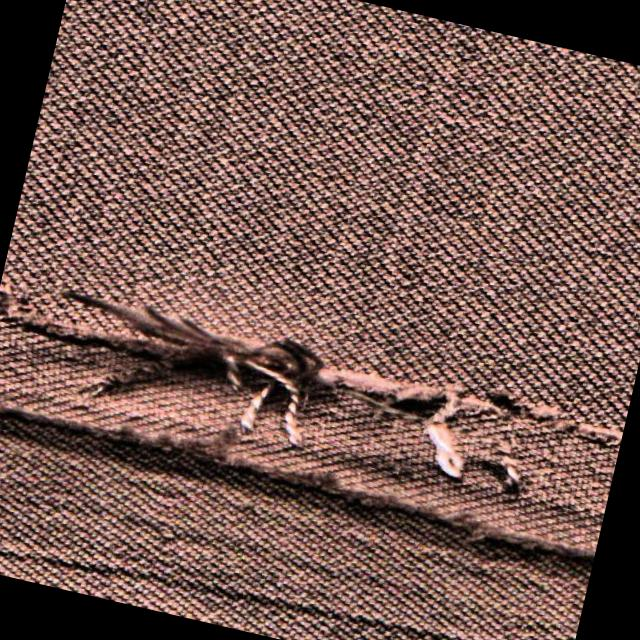gray stitch: (0, 258, 628, 592)
